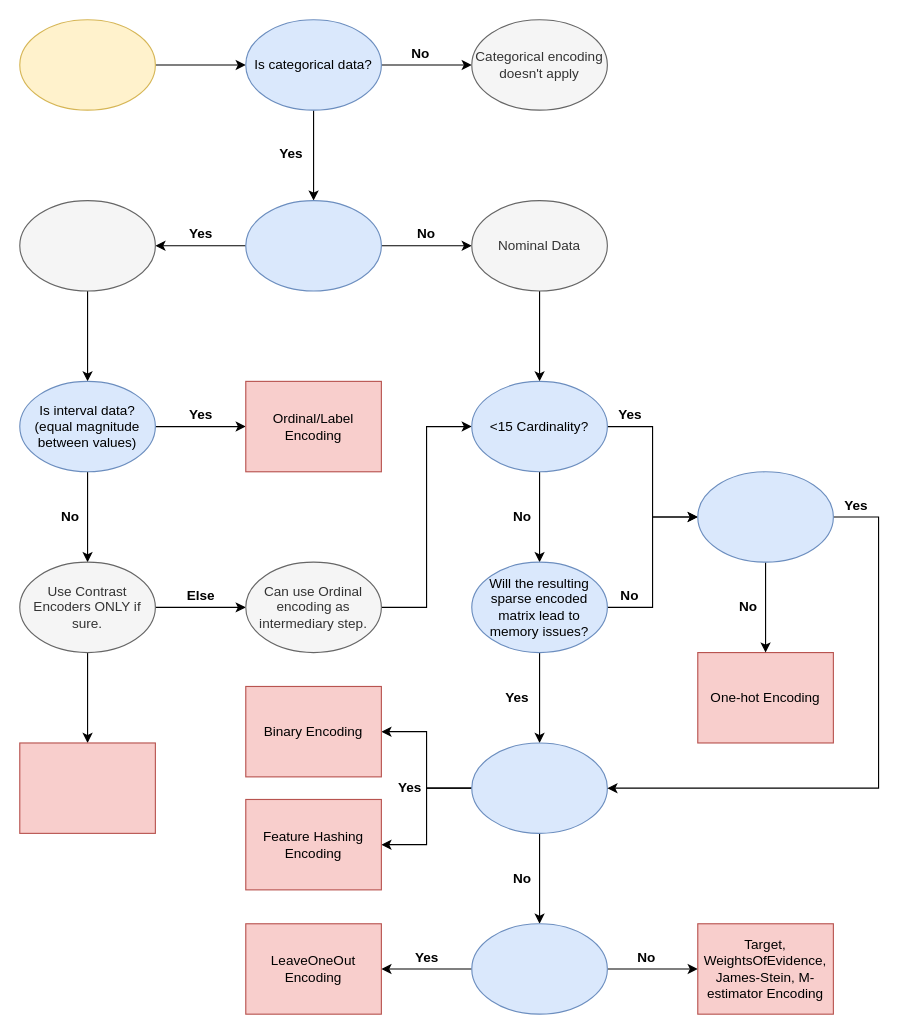
This 907x1034 diagram has some shape labels left out. Each missing label, with the centre of its shape:
Decision-tree based algorithm?: the point at 765,516
Do the categories have meaningful order?: the point at 313,245
Do you want the encoder to handle overfitting/response leakage?: the point at 539,968
Is some info loss acceptable for lower dimensionality (vs. one-hot encoding)?: the point at 539,787
Ordinal Data: the point at 87,245
Polynomial, Helmert, Sum, or Backward Difference Encoding: the point at 87,787
START: the point at 87,64
